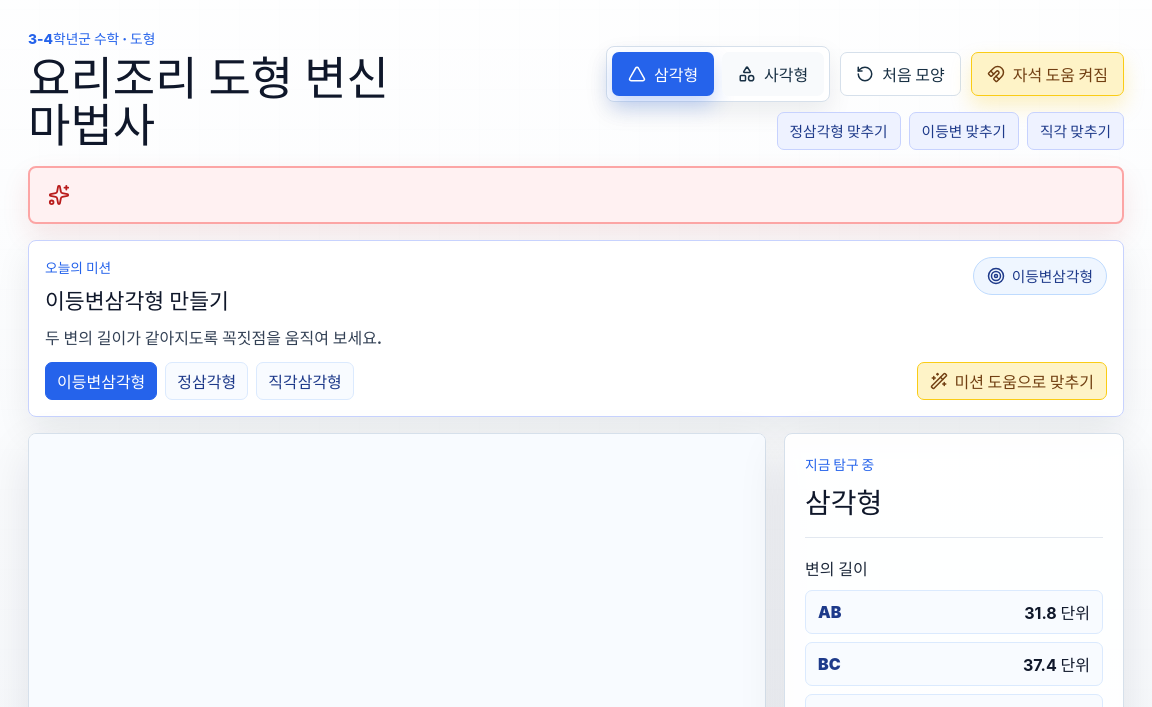
Test: App › marks the active mission complete when its exact shape is constructed
Click the button "미션 도움으로 맞추기" at (1012,381), box x1=916 y1=362 x2=1107 y2=400
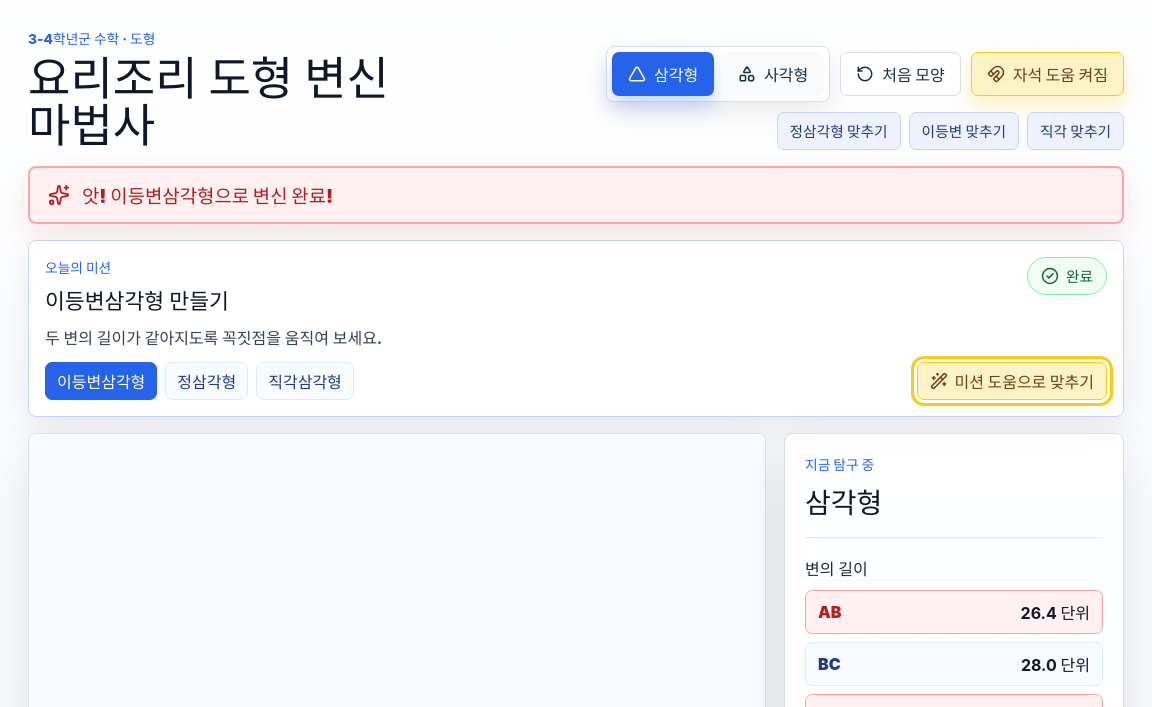
expect the text "앗! 이등변삼각형으로 변신 완료!" is shown: met, box x1=82 y1=181 x2=333 y2=208
expect the text "완료" is shown: met, box x1=1027 y1=257 x2=1107 y2=295
